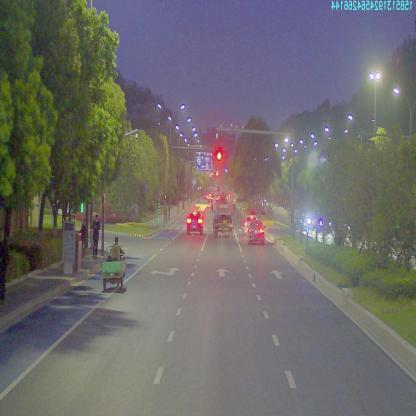traffic-light: (214, 148, 222, 162)
